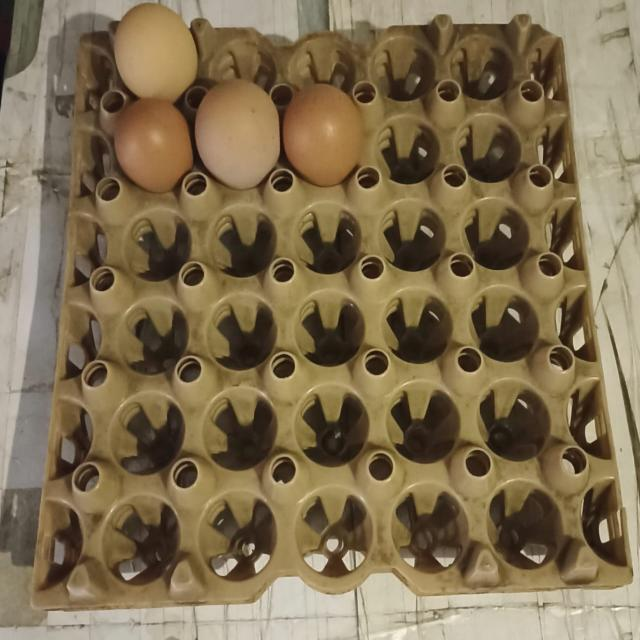Eggs: (200, 78, 282, 195), (104, 2, 198, 96), (286, 80, 364, 186), (109, 101, 192, 189)
